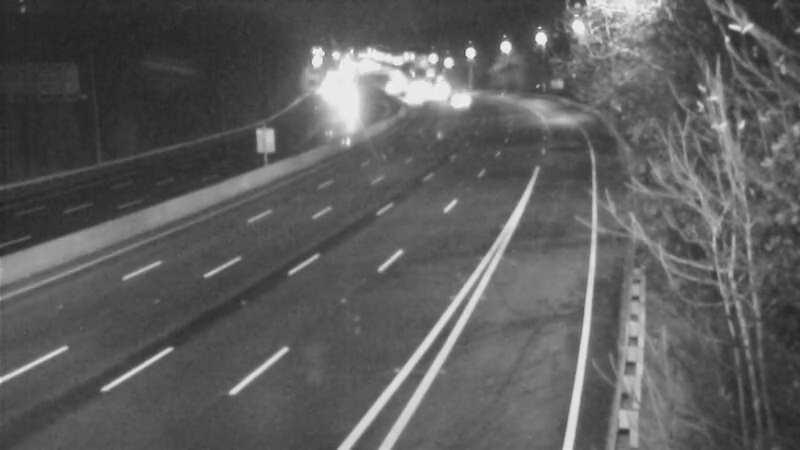vehicle: (424, 62, 474, 112), (428, 75, 478, 125), (384, 69, 434, 119)
